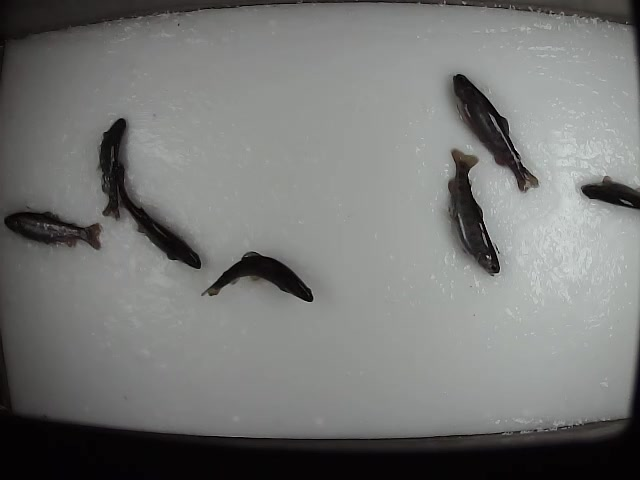fish: (450, 72, 541, 195), (113, 160, 203, 271), (441, 148, 502, 277), (199, 248, 317, 304), (3, 206, 106, 258), (98, 114, 129, 195)
